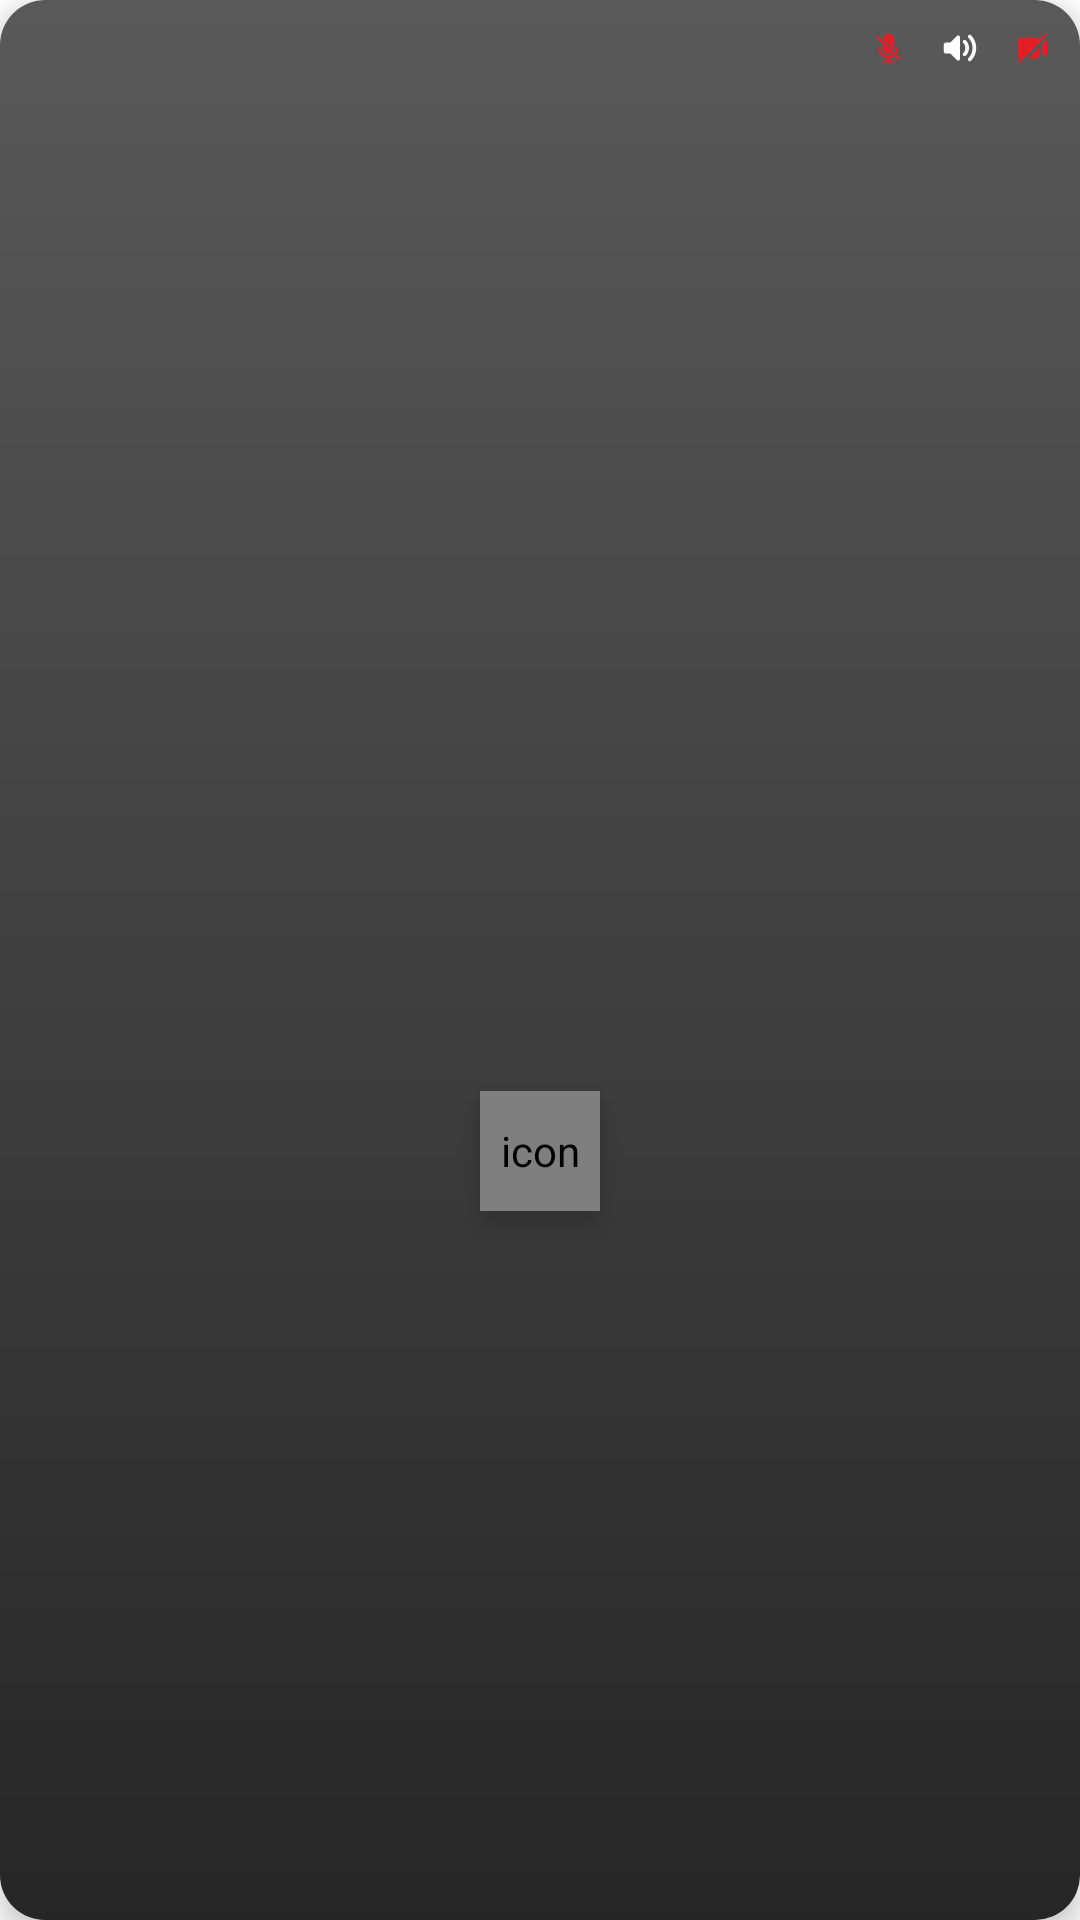

Named icons in this screenshot (1080px×1920px) and their centers, (x=x, y=y):
mic off: (x=888, y=48)
speaker on: (x=960, y=48)
video off: (x=1032, y=48)
